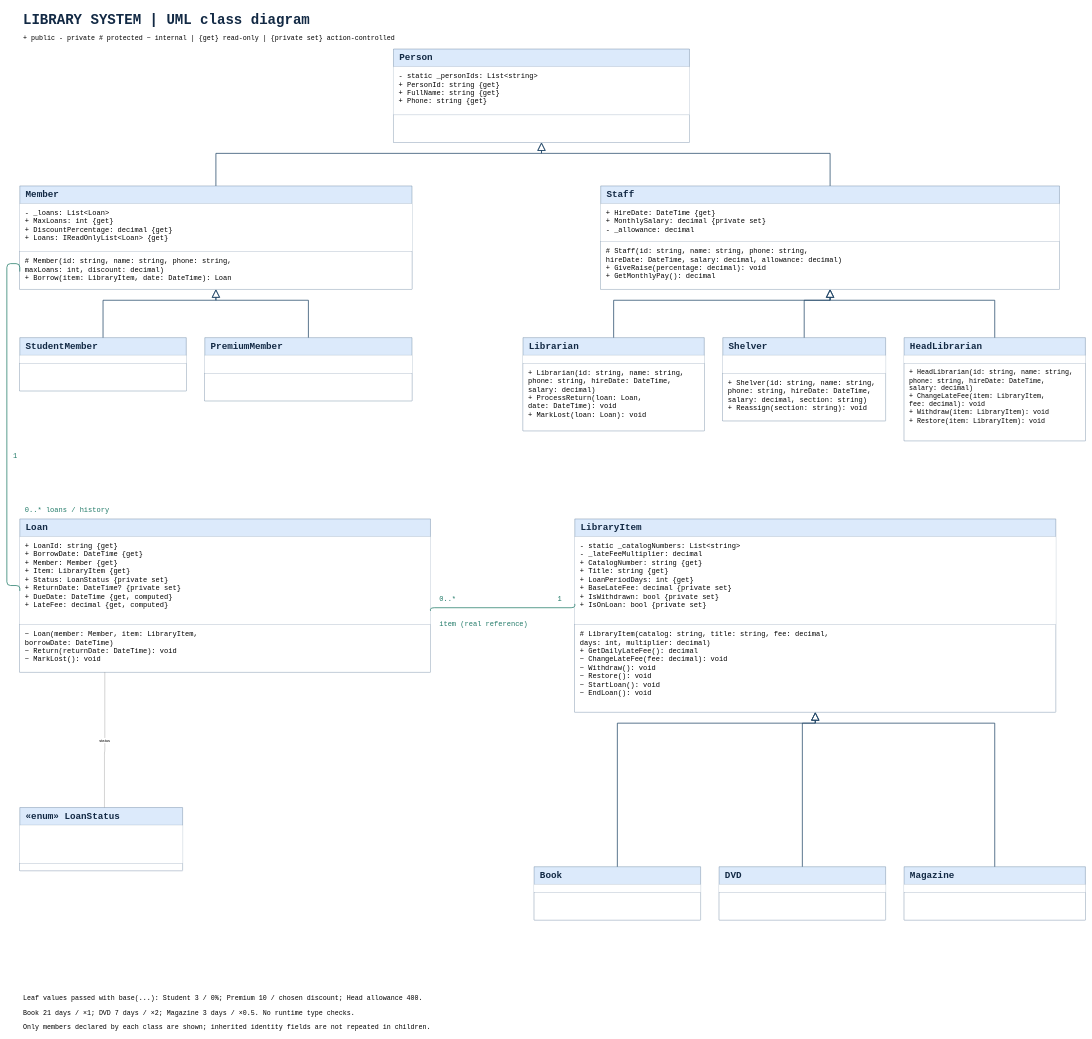
The diagram is 1092 pixels wide and 1039 high, and some of its shapes have lost their labels. Each missing label, with the box of its shape:
# Person(id: string, fullName: string, phone: string) # RegisterIdentity(): void: (393, 115, 689, 142)
+ Book(catalog: string, title: string, fee: decimal): (534, 892, 701, 920)
+ DVD(catalog: string, title: string, fee: decimal): (719, 892, 886, 920)
+ Magazine(catalog: string, title: string, fee: decimal): (904, 892, 1085, 920)
+ PremiumMember(id: string, name: string, phone: string, discount: decimal): (204, 373, 412, 401)
+ ReadingPoints: int {get, computed}: (205, 355, 412, 373)
+ Section: string {private set}: (723, 355, 885, 373)
+ StudentMember(id: string, name: string, phone: string): (19, 363, 186, 391)
Borrowed Returned Lost: (20, 825, 182, 863)
